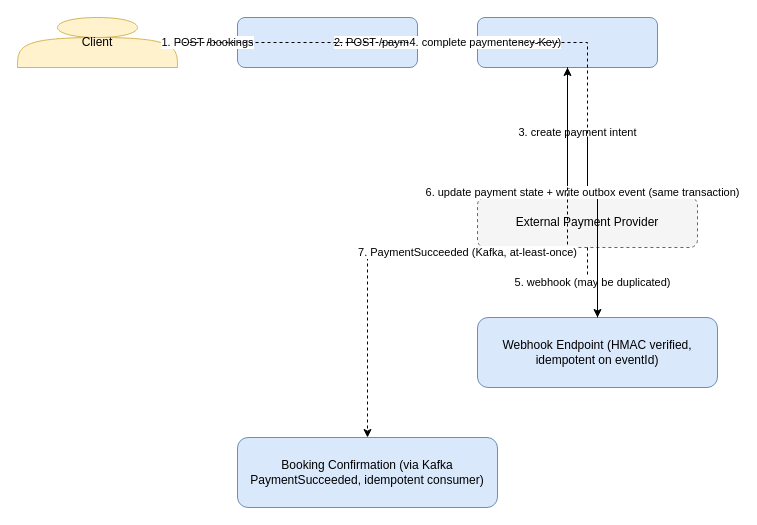
Image size: 757x525. Some labels were removed from this diagram. The centre of each missing label's shape, as x and y in pixels:
Booking Service: the point at 327,42
Payment Service: the point at 567,42
